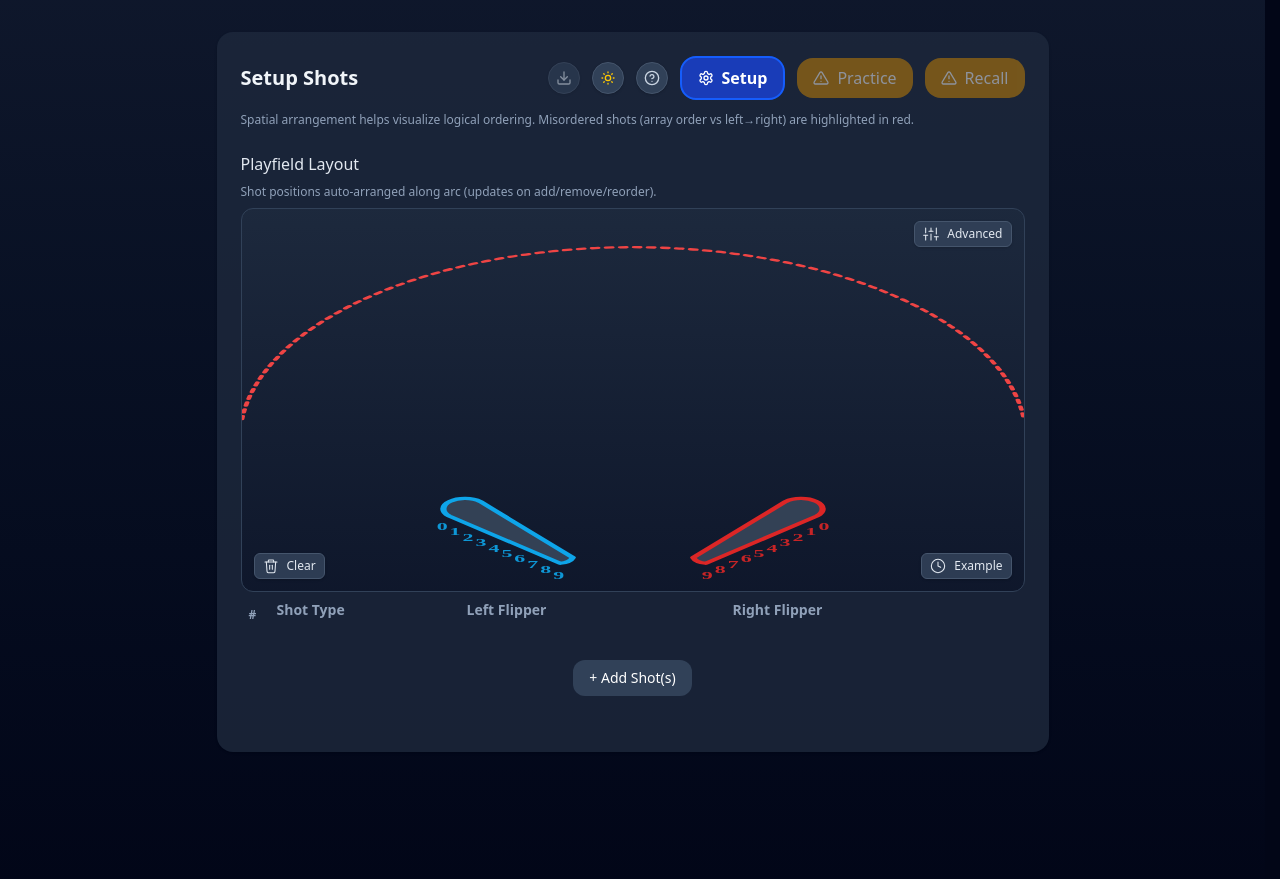
Scenario: App - Practice Mode Comprehensive Tests › should enter practice mode and show practice UI
Expected: the heading "Setup Shots" is shown, [240,64,358,92]
Click the button with aria-label "load example shots" at (966, 566), box [921,553,1012,579]
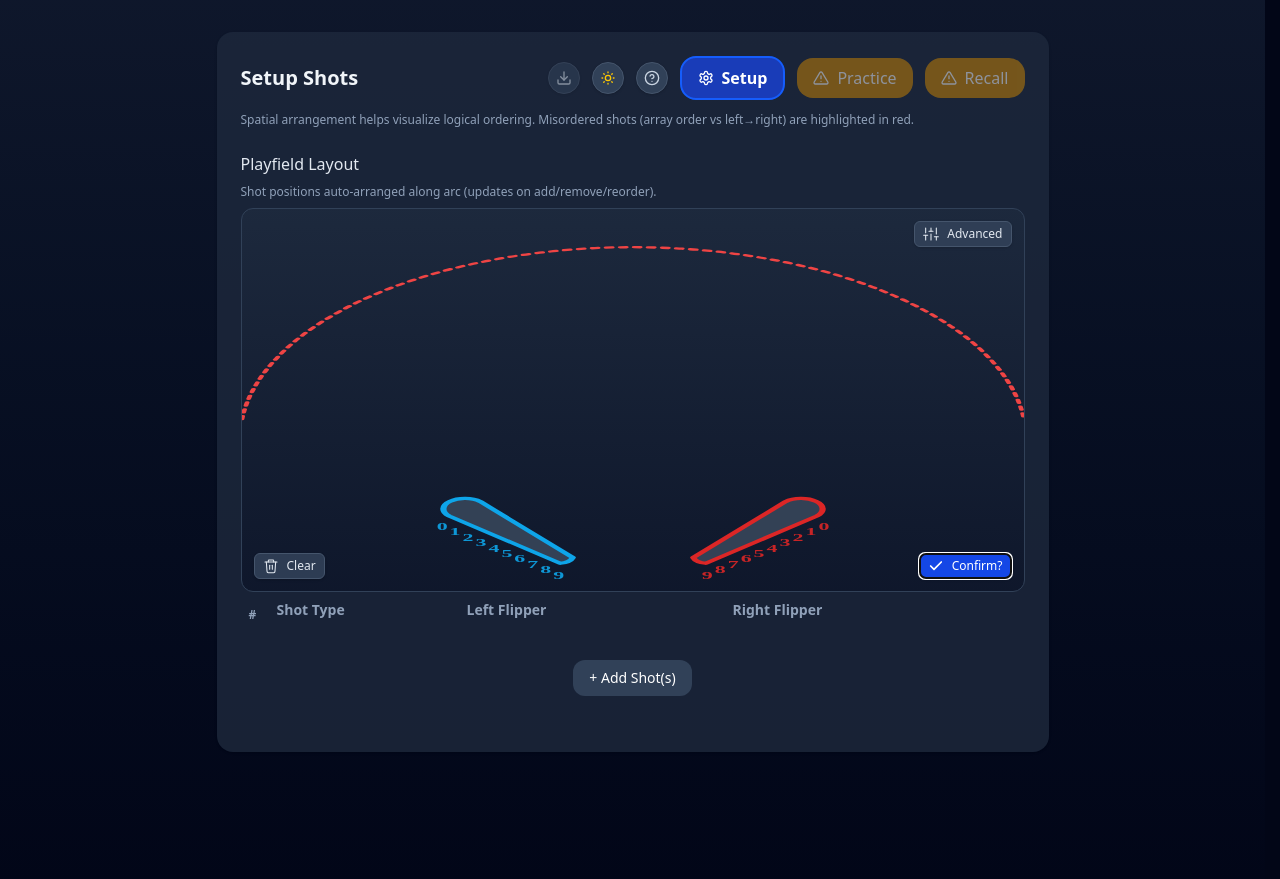
Click the button with aria-label "confirm load example shots" at (965, 566), box [919,553,1012,579]
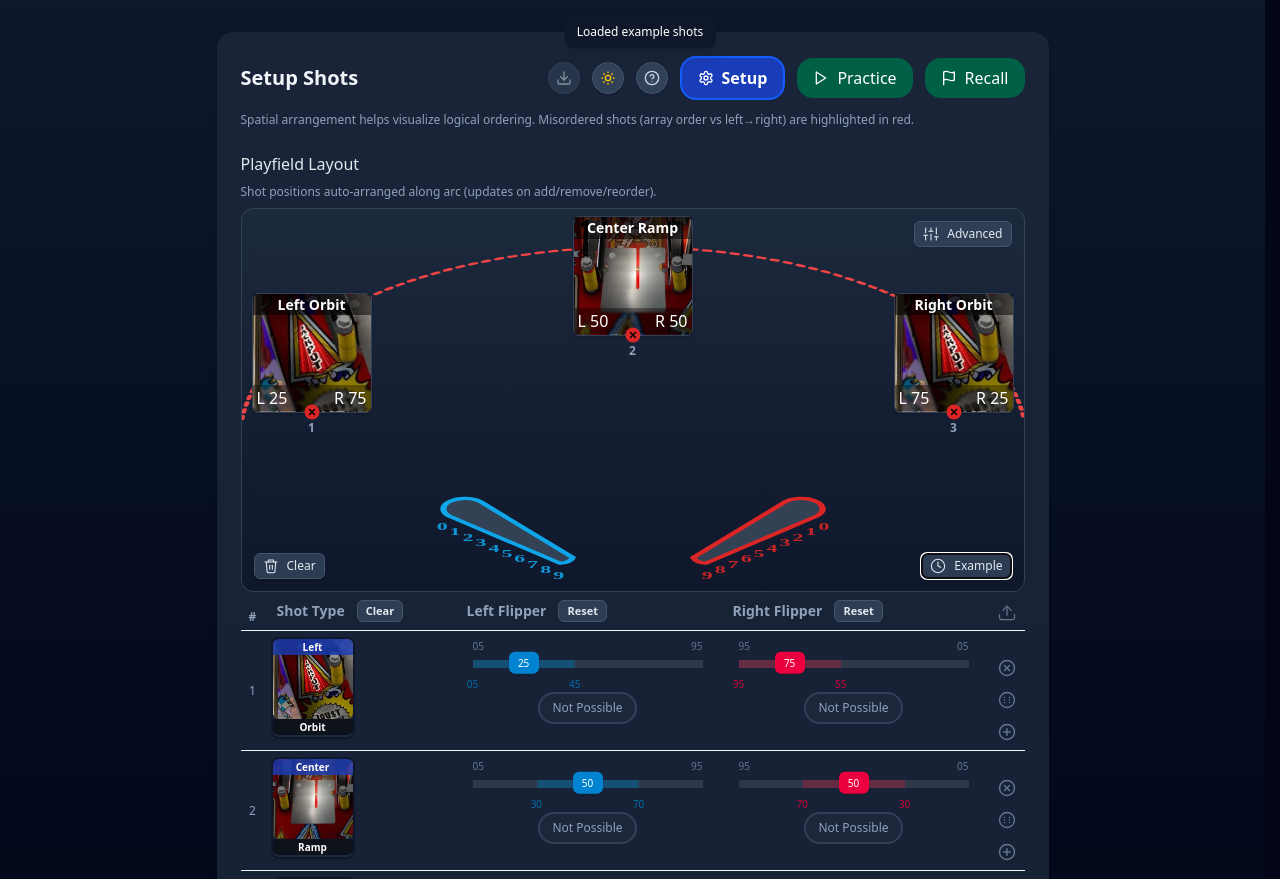
Click the button "Practice" at (855, 78), box [797,58,913,98]
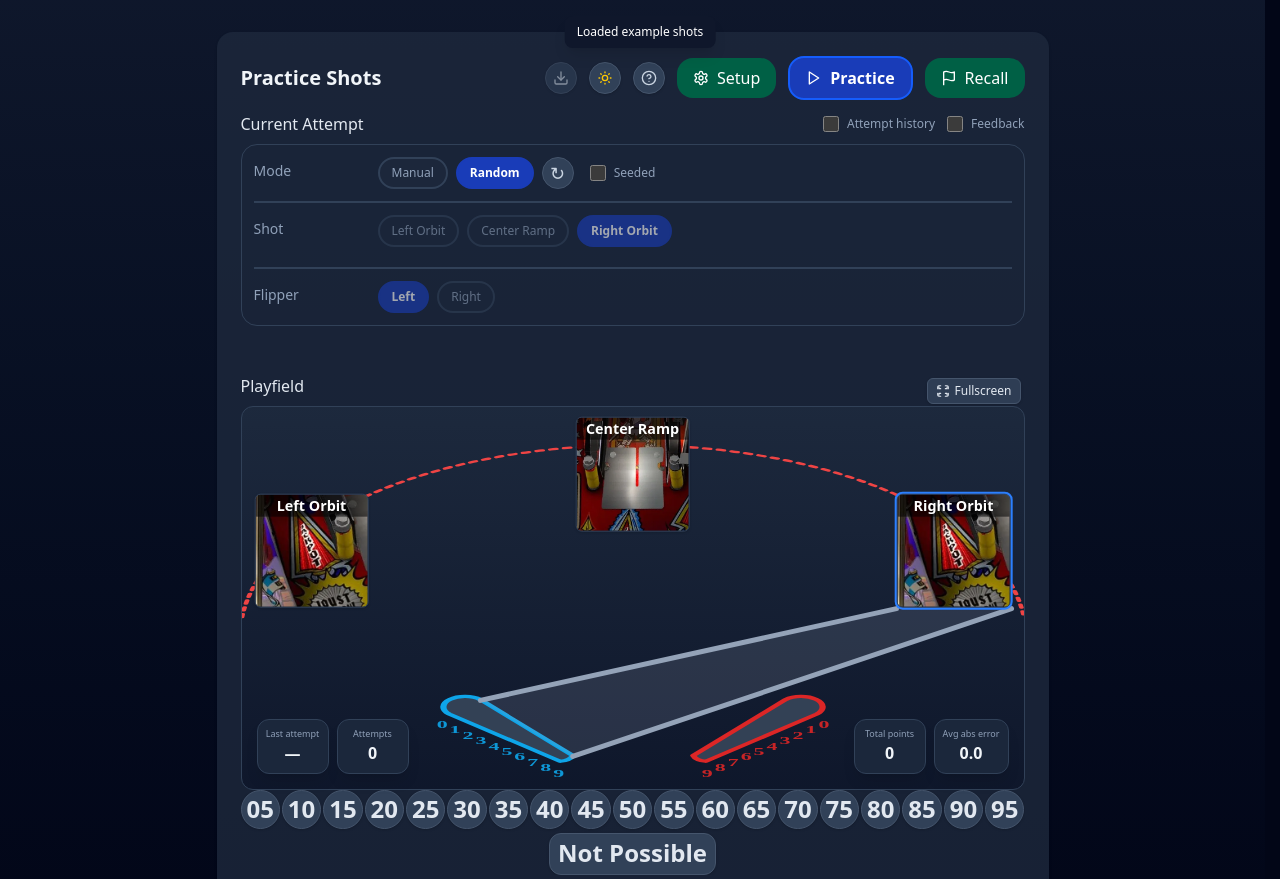
Expected: the button named "Download standalone" is shown, [545,62,577,94]
Expected: the heading "Setup Shots" is gone
